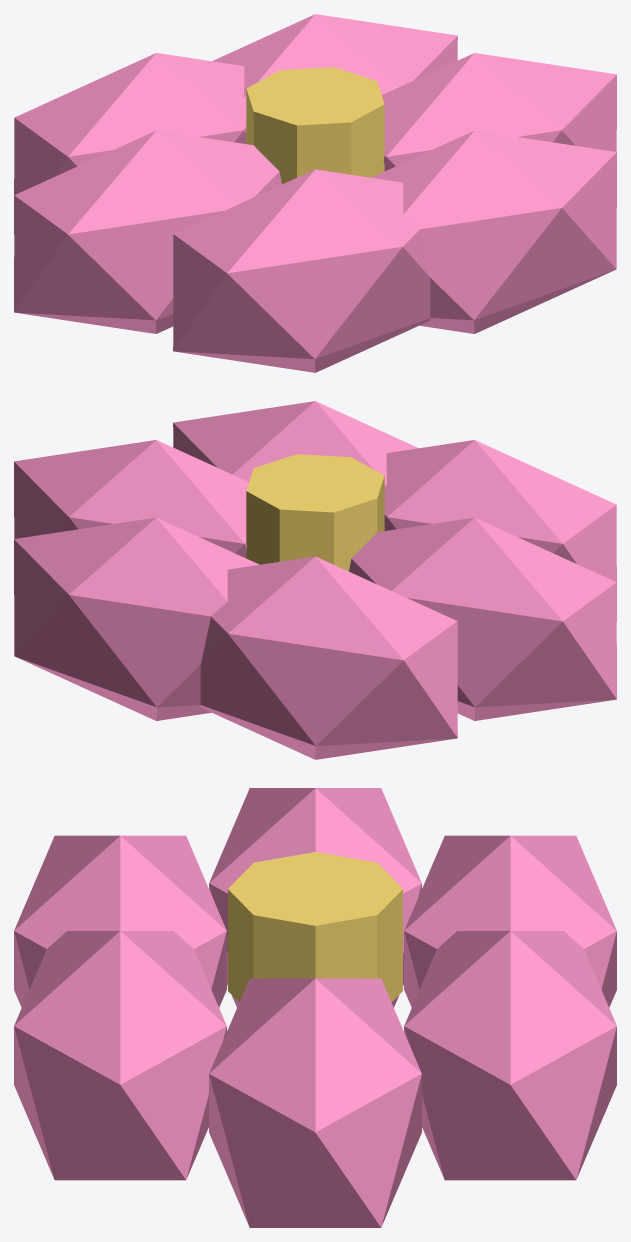
3 views of the same model, one above another, from view 1: azimuth 30°, elevation 25°; view 2: azimuth 150°, elevation 25°; view 3: azimuth 270°, elevation 25° (orthographic). The views are drawn at different scales.
Visible parts, largest first — view 1: Petal.004, Petal.005, Petal.003, Petal, Petal.002, Flower core, Petal.001; view 2: Petal.002, Petal.001, Petal.003, Petal, Petal.004, Flower core, Petal.005; view 3: Petal, Petal.001, Petal.005, Flower core, Petal.002, Petal.004, Petal.003.
Part boxes in pixels (<box>): Petal.004: <box>173,169,430,372</box>; Petal.005: <box>371,130,616,333</box>; Petal.003: <box>14,130,281,333</box>; Petal: <box>382,53,616,171</box>; Petal.002: <box>14,53,246,234</box>; Flower core: <box>246,67,384,184</box>; Petal.001: <box>212,14,457,99</box>; Petal.002: <box>200,556,457,759</box>; Petal.001: <box>14,517,259,720</box>; Petal.003: <box>349,517,616,720</box>; Petal: <box>14,440,248,558</box>; Petal.004: <box>384,440,616,621</box>; Flower core: <box>246,454,384,571</box>; Petal.005: <box>173,401,418,486</box>; Petal: <box>209,978,421,1227</box>; Petal.001: <box>404,931,616,1180</box>; Petal.005: <box>14,931,226,1180</box>; Flower core: <box>228,852,402,1002</box>; Petal.002: <box>404,835,616,1007</box>; Petal.004: <box>14,835,226,1007</box>; Petal.003: <box>209,788,421,1007</box>.
Size of the model in its own units: 34.1 by 11 by 24.09.
